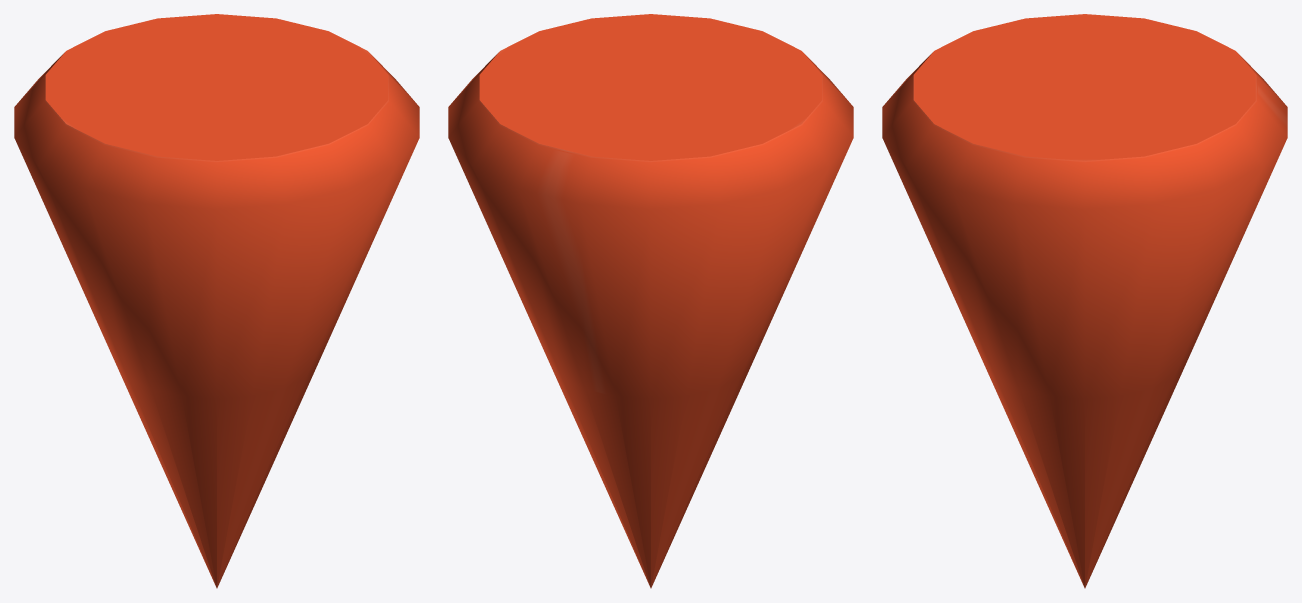
The model's file is zhixiangbiao.FBX.
3 views of the same model, side by side, from view 1: azimuth 30°, elevation 25°; view 2: azimuth 150°, elevation 25°; view 3: azimuth 270°, elevation 25° (orthographic).
Parts seen in each view (by area): view 1: Cone001; view 2: Cone001; view 3: Cone001.
Part boxes in pixels (bbox=[...]): Cone001: bbox=[14, 14, 419, 588]; Cone001: bbox=[448, 14, 853, 588]; Cone001: bbox=[882, 14, 1287, 588].
Size of the model in its own units: 2.67 by 3.58 by 2.63.
1 material, 1 textured.
